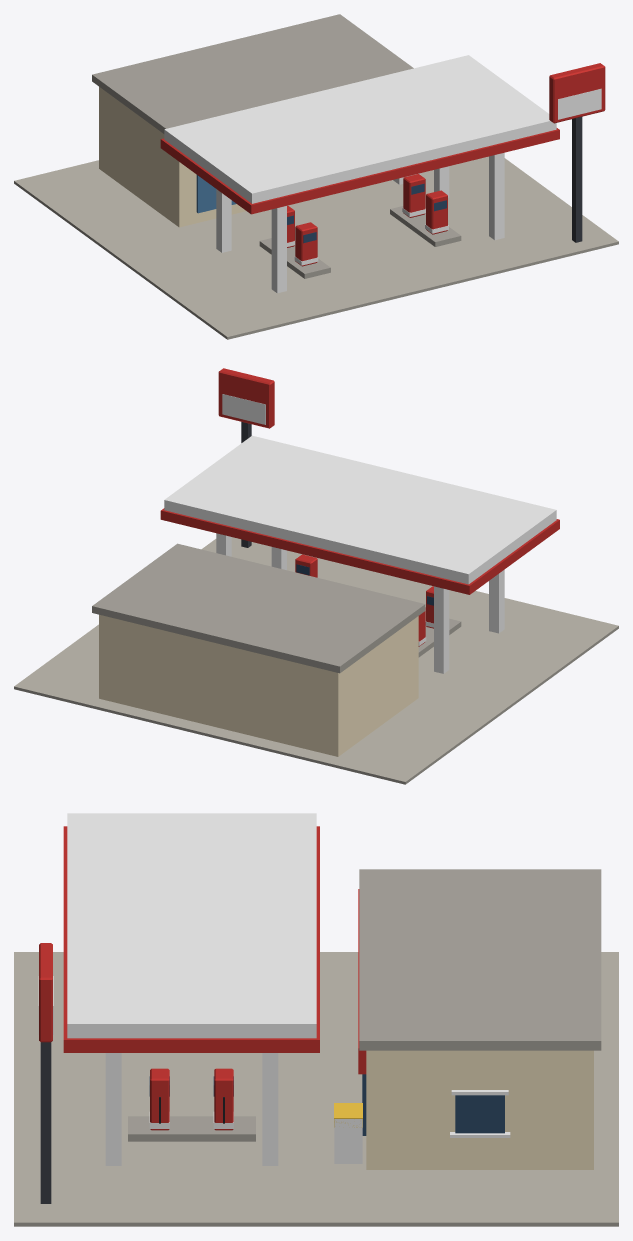
The model's file is Gas_Station.glb.
3 views of the same model, one above another, from view 1: azimuth 30°, elevation 25°; view 2: azimuth 150°, elevation 25°; view 3: azimuth 270°, elevation 25° (orthographic). The views are drawn at different scales.
Parts seen in each view (by area): view 1: Gas_Station_Mesh; view 2: Gas_Station_Mesh; view 3: Gas_Station_Mesh.
Boxes of the visible parts, x1=… form: Gas_Station_Mesh: x1=14, y1=14, x2=618, y2=339; Gas_Station_Mesh: x1=14, y1=368, x2=618, y2=784; Gas_Station_Mesh: x1=14, y1=813, x2=618, y2=1226.
Size of the model in its own units: 18 by 7.6 by 17.
Materials: 1 (1 with a texture image).
